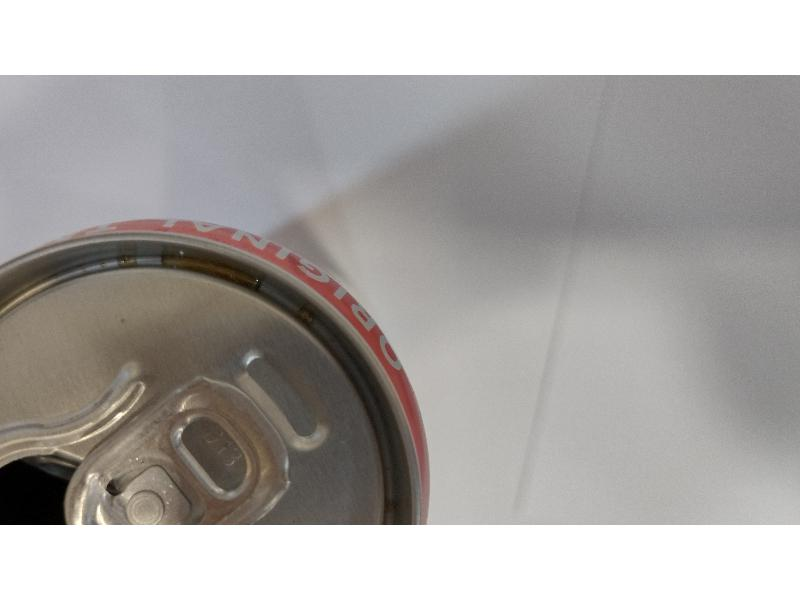can: (0, 194, 458, 529)
